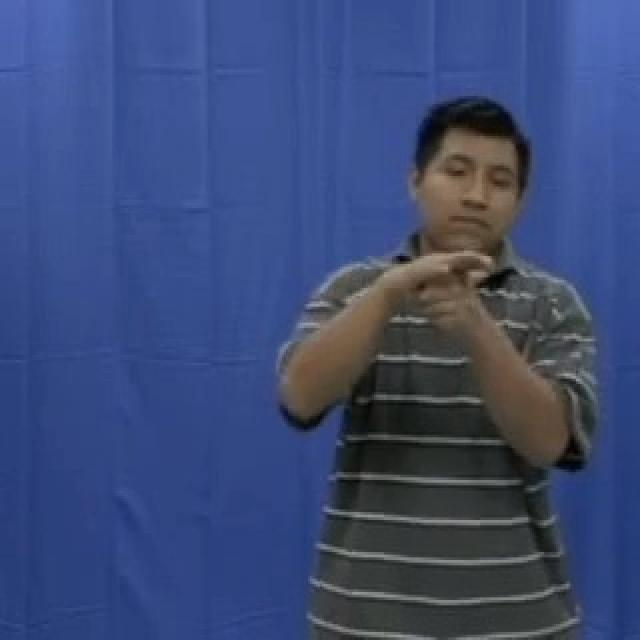coke: (359, 198, 517, 384)
